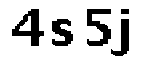4: (8, 4, 47, 49)
5: (79, 7, 116, 51)
j: (112, 6, 135, 60)
s: (49, 15, 77, 52)
